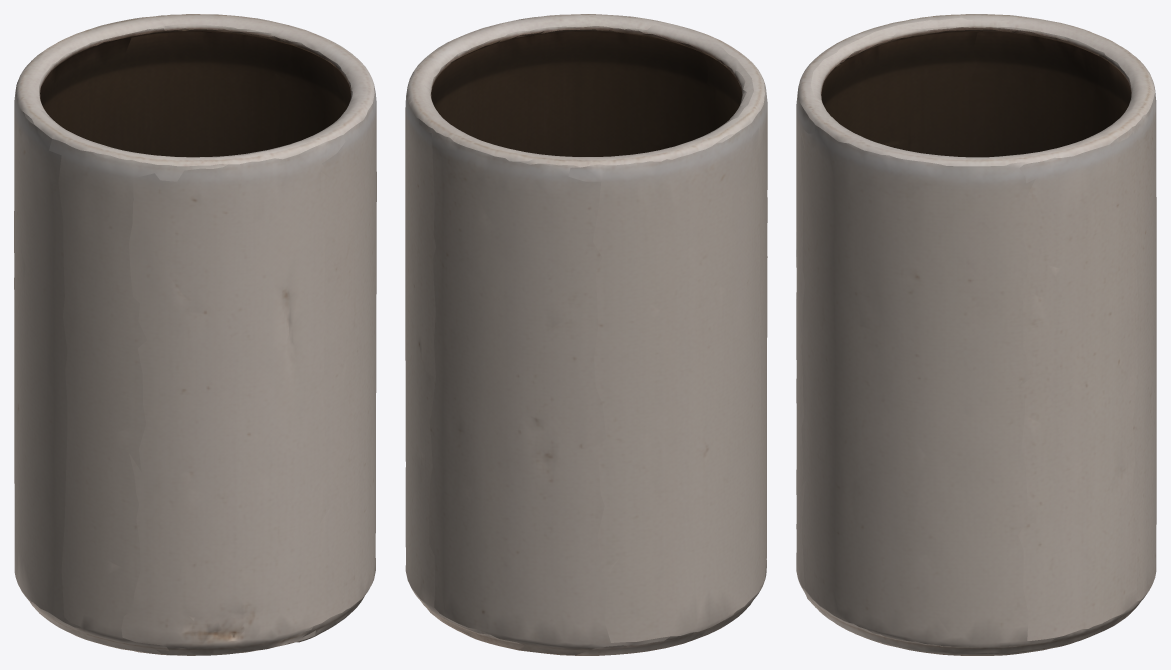
Rendered from original.glb.
3 views of the same model, side by side, from view 1: azimuth 30°, elevation 25°; view 2: azimuth 150°, elevation 25°; view 3: azimuth 270°, elevation 25° (orthographic).
Visible parts, largest first — view 1: world; view 2: world; view 3: world.
Boxes of the visible parts, box(x1,y1,x2,y2) form: world: box(14, 14, 376, 655); world: box(405, 14, 767, 655); world: box(796, 14, 1156, 655).
Size of the model in its own units: 0.1182 by 0.18 by 0.118.
Materials: 1 (1 with a texture image).
